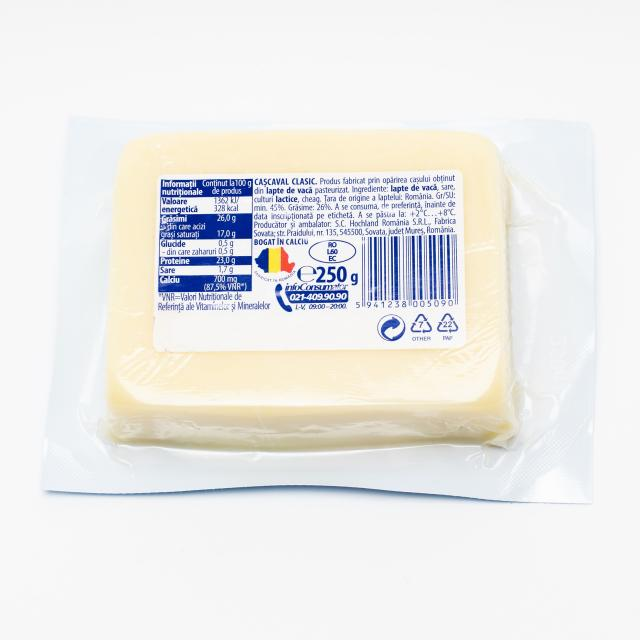cheese: (107, 130, 513, 448)
